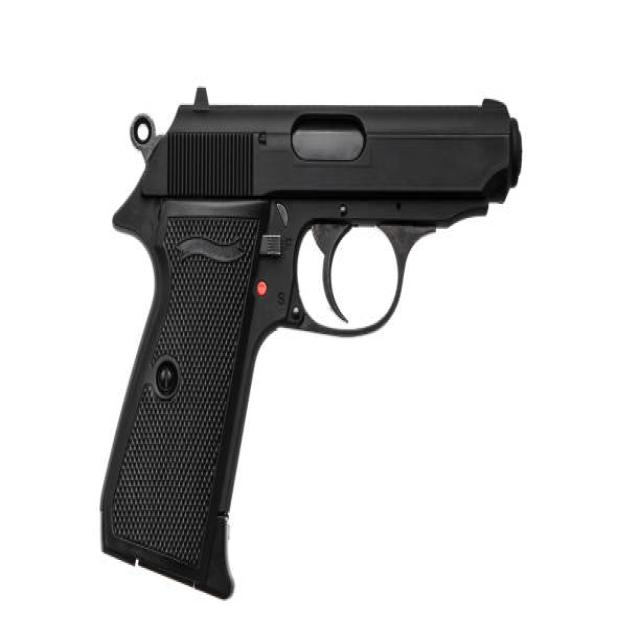pistol: (92, 84, 528, 603)
